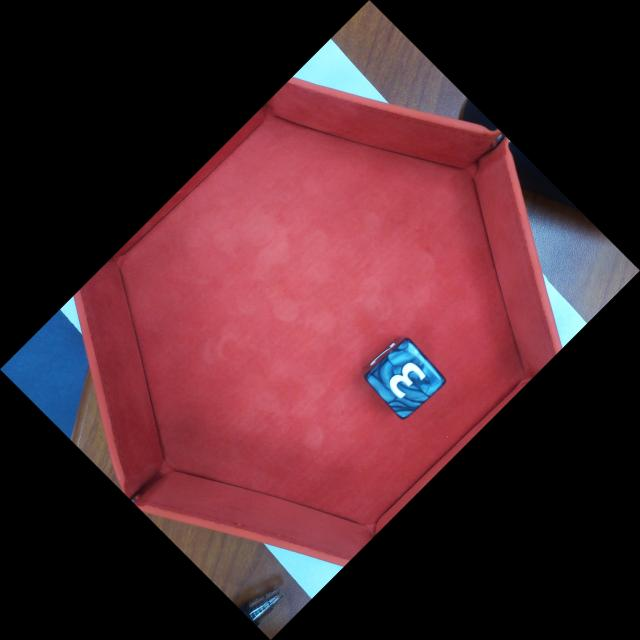dice: (365, 341, 444, 417)
